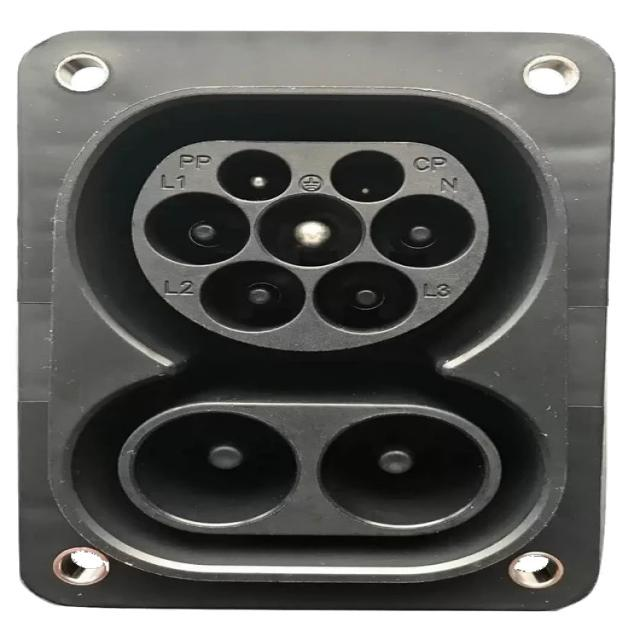inlet: (132, 141, 491, 352)
inlet-above-left: (217, 149, 293, 201)
inlet-above-right: (330, 149, 404, 203)
inlet-below-left: (200, 261, 305, 332)
inlet-below-right: (313, 262, 417, 333)
inlet-circle: (257, 193, 364, 268)
inlet-circle-left: (143, 191, 249, 266)
inlet-circle-right: (372, 194, 474, 268)
inlet-minus: (319, 413, 488, 527)
inlet-plus: (131, 410, 299, 526)
